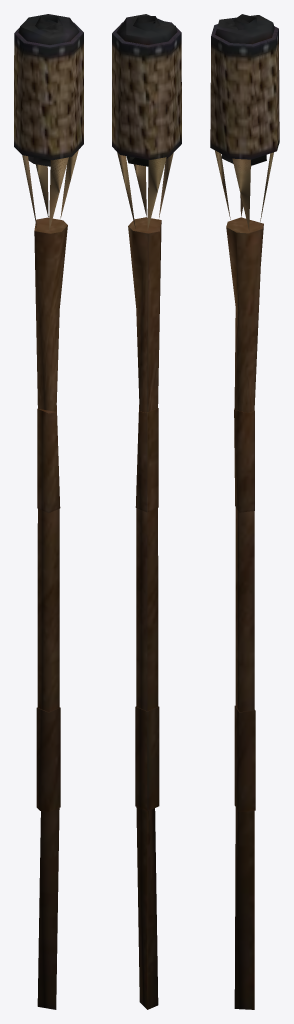
File: torch-stake.lod1.glb
3 renders of one model, left to right at view 1: azimuth 30°, elevation 25°; view 2: azimuth 210°, elevation 25°; view 3: azimuth 270°, elevation 25°, orthographic.
Visible parts, largest first — view 1: defaultMaterial; view 2: defaultMaterial; view 3: defaultMaterial.
Part boxes in pixels (x1,y1,x2,y2): defaultMaterial: [14, 14, 83, 1009]; defaultMaterial: [112, 14, 181, 1009]; defaultMaterial: [210, 14, 279, 1009].
Size of the model in its own units: 0.1206 by 1.9 by 0.1206.
Materials: 1 (1 with a texture image).
